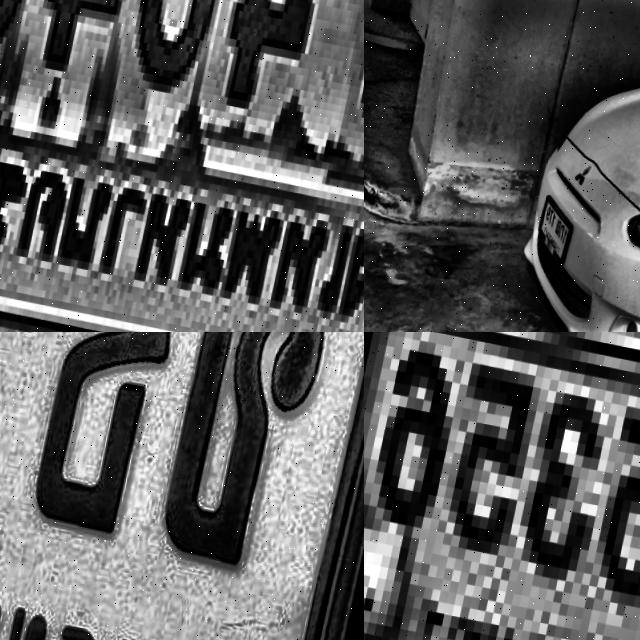license-plate: (0, 0, 364, 332), (0, 332, 364, 640), (364, 332, 640, 640), (531, 186, 584, 265)
